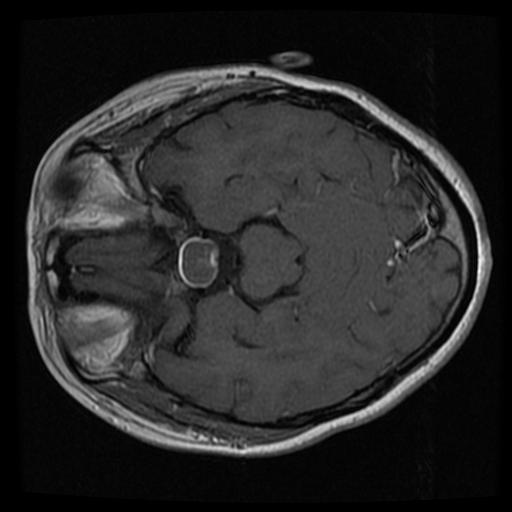pituitary tumour: (177, 236, 217, 288)
